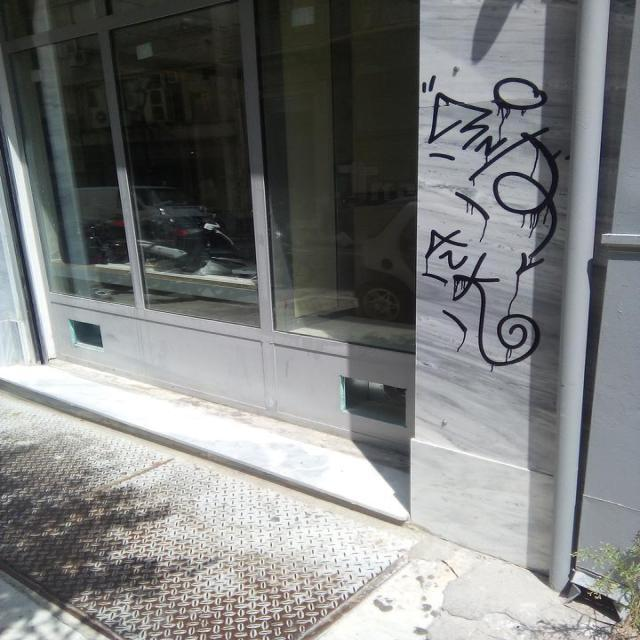nonspitting: (423, 73, 562, 372)
